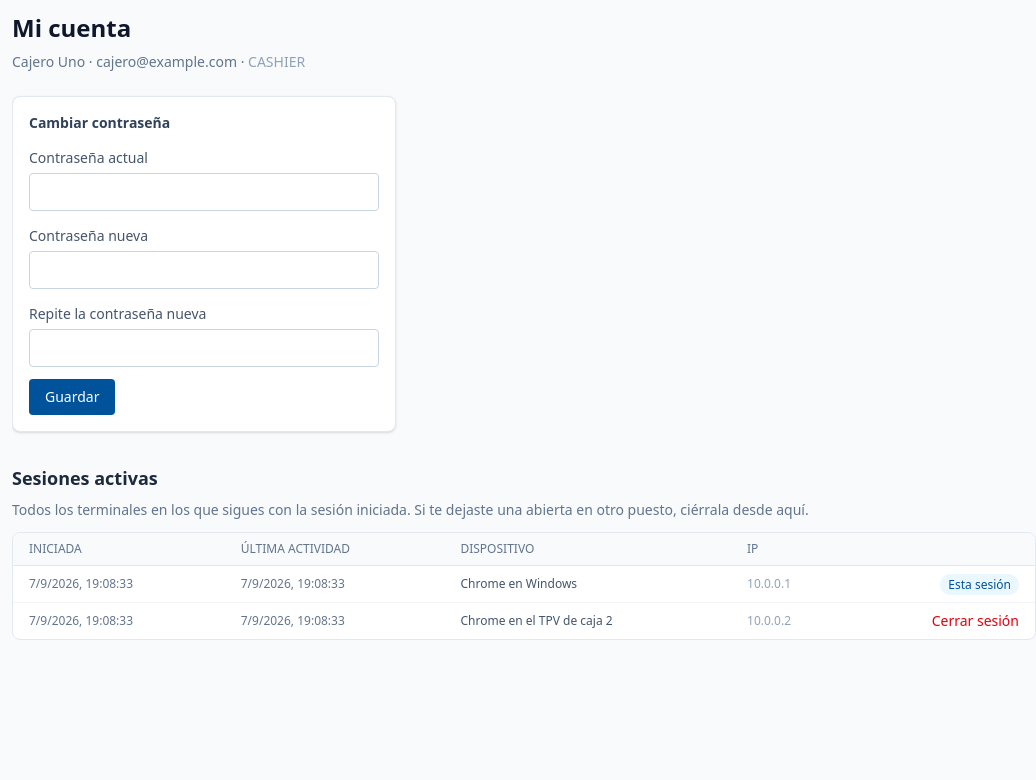
AccountPage › lists active sessions, marks the current one, and closes another one
The width and height of the screenshot is (1036, 780).
Expected: the text "Chrome en Windows" is shown, [444,566,731,602]
Expected: the text "Esta sesión" is shown, [940,574,1019,595]
Click the button "Cerrar sesión".
click(975, 621)  # box [932,611,1019,631]
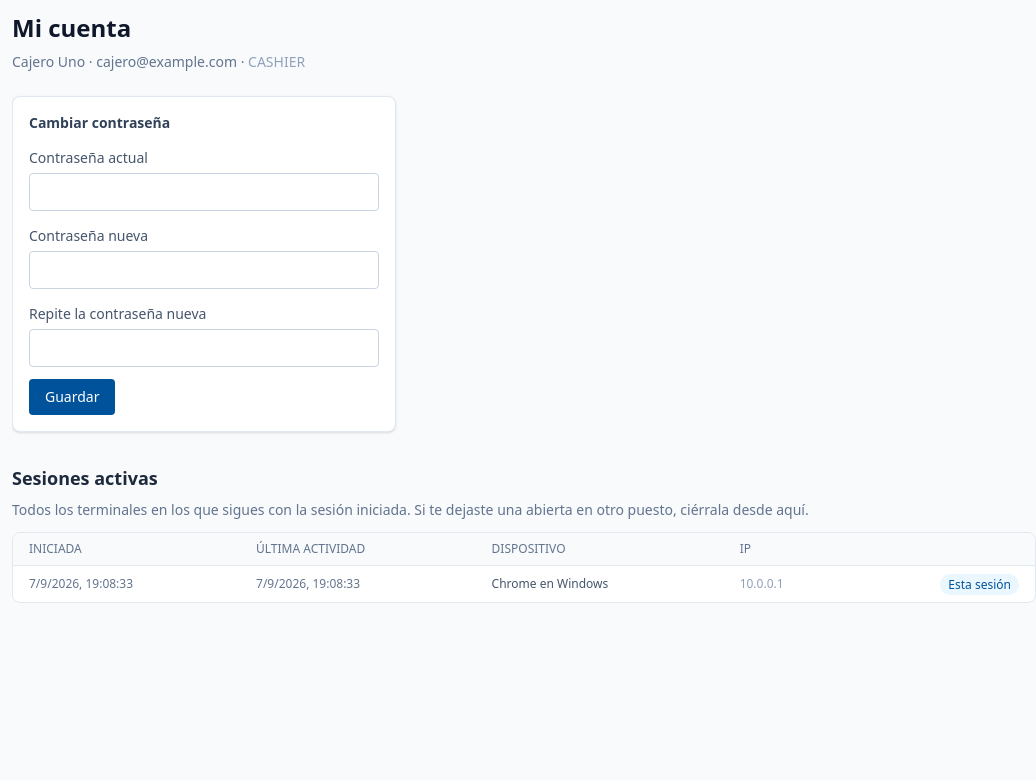
Expected: the text "Chrome en el TPV de caja 2" is gone
